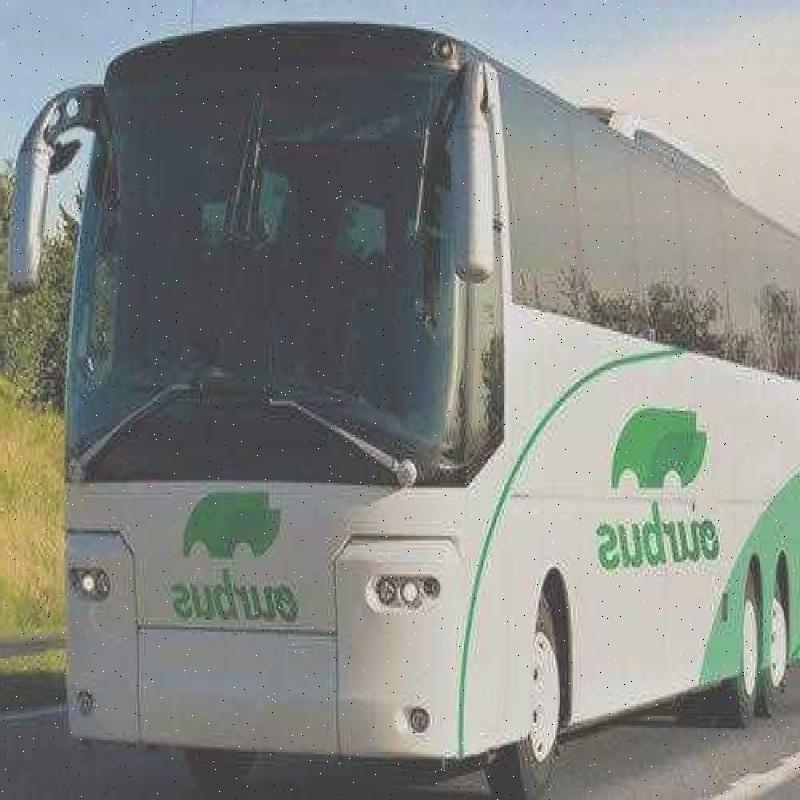bus: (28, 23, 795, 793)
